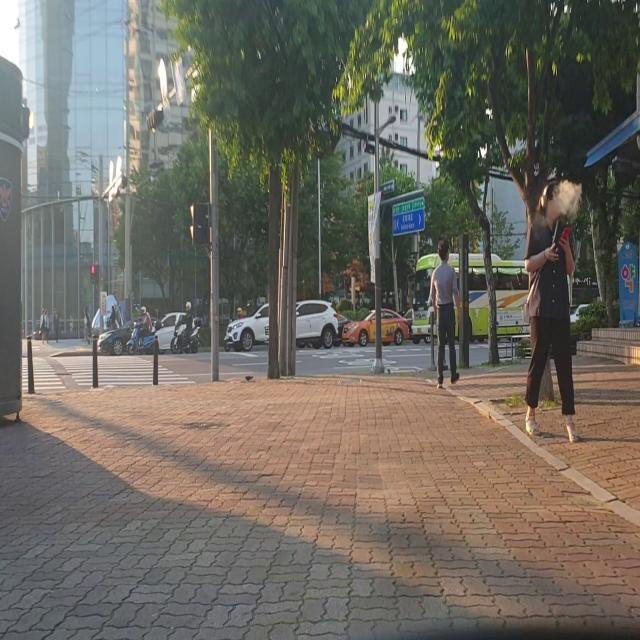빨간불: (90, 263, 98, 284)
횡단보도: (21, 352, 197, 397)
